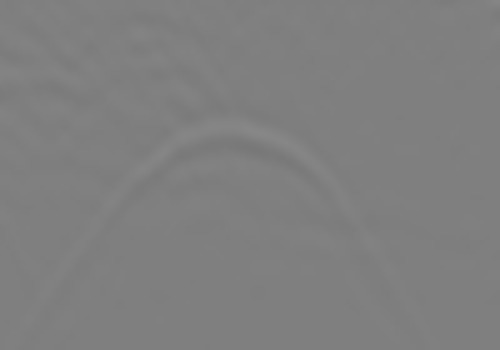hyperbola: (45, 118, 439, 350)
